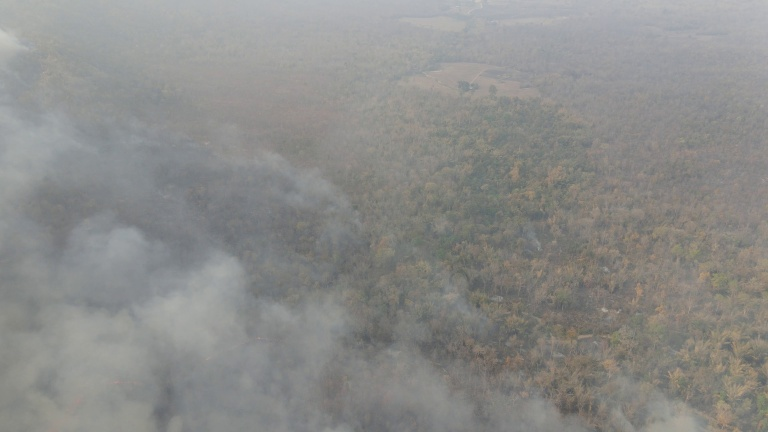fire: (54, 379, 81, 432), (97, 375, 155, 389)
smoke: (1, 217, 377, 425)
